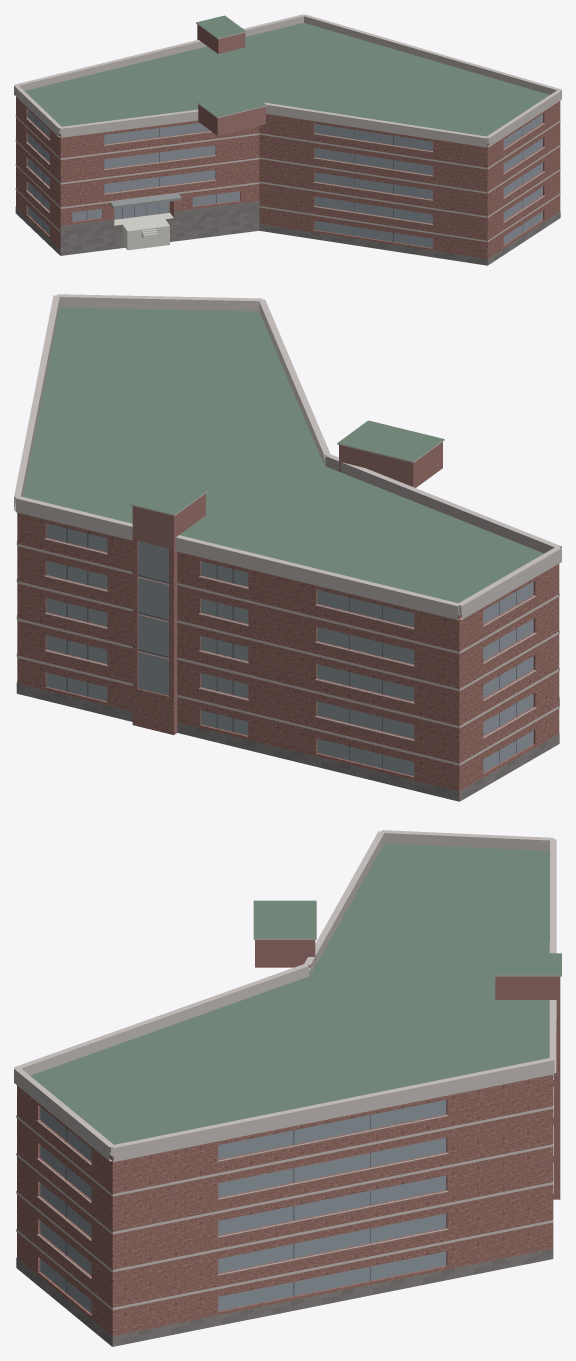
3 views of the same model, one above another, from view 1: azimuth 30°, elevation 25°; view 2: azimuth 150°, elevation 25°; view 3: azimuth 270°, elevation 25° (orthographic). The views are drawn at different scales.
Visible parts, largest first — view 1: artsResearch__wall, artsResearch__roof, artsResearch__trim, artsResearch__glass, artsResearch__base, artsResearch__wall2, artsResearch__entranceStair, artsResearch__canopy, artsResearch__frame; view 2: artsResearch__roof, artsResearch__wall, artsResearch__trim, artsResearch__glass, artsResearch__base, artsResearch__wall2, artsResearch__frame; view 3: artsResearch__roof, artsResearch__wall, artsResearch__trim, artsResearch__glass, artsResearch__base, artsResearch__wall2.
Boxes of the visible parts, x1=… form: artsResearch__wall: x1=16, y1=97, x2=560, y2=264; artsResearch__roof: x1=24, y1=15, x2=549, y2=255; artsResearch__trim: x1=14, y1=14, x2=561, y2=241; artsResearch__glass: x1=28, y1=109, x2=542, y2=247; artsResearch__base: x1=15, y1=201, x2=560, y2=265; artsResearch__wall2: x1=197, y1=24, x2=265, y2=135; artsResearch__entranceStair: x1=114, y1=213, x2=173, y2=250; artsResearch__canopy: x1=110, y1=193, x2=181, y2=208; artsResearch__frame: x1=35, y1=116, x2=522, y2=242; artsResearch__roof: x1=22, y1=307, x2=543, y2=615; artsResearch__wall: x1=17, y1=512, x2=559, y2=801; artsResearch__trim: x1=14, y1=294, x2=561, y2=765; artsResearch__glass: x1=46, y1=523, x2=533, y2=776; artsResearch__base: x1=16, y1=681, x2=559, y2=801; artsResearch__wall2: x1=132, y1=442, x2=442, y2=734; artsResearch__frame: x1=66, y1=528, x2=516, y2=768; artsResearch__roof: x1=30, y1=843, x2=561, y2=1346; artsResearch__wall: x1=17, y1=1074, x2=553, y2=1346; artsResearch__trim: x1=14, y1=830, x2=561, y2=1310; artsResearch__glass: x1=40, y1=1100, x2=446, y2=1313; artsResearch__base: x1=16, y1=1248, x2=553, y2=1346; artsResearch__wall2: x1=255, y1=940, x2=560, y2=1199.
Size of the model in its own units: 64.79 by 21.41 by 47.18.
Materials: 10 (2 with a texture image).
